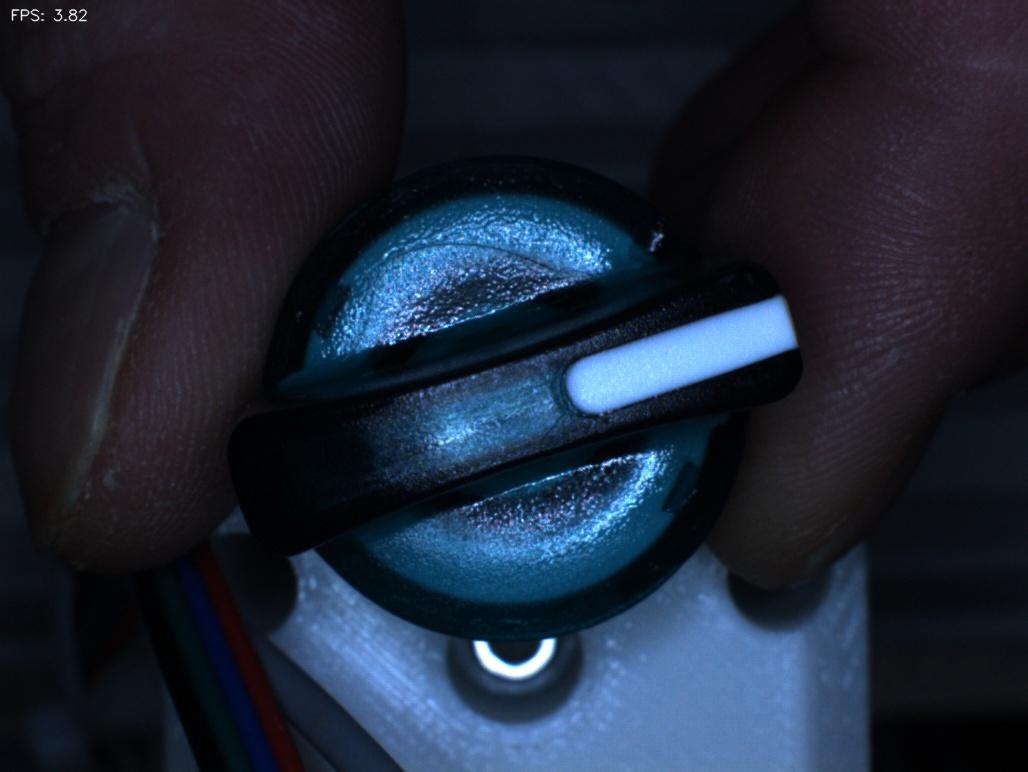Choc: (604, 180, 692, 276)
